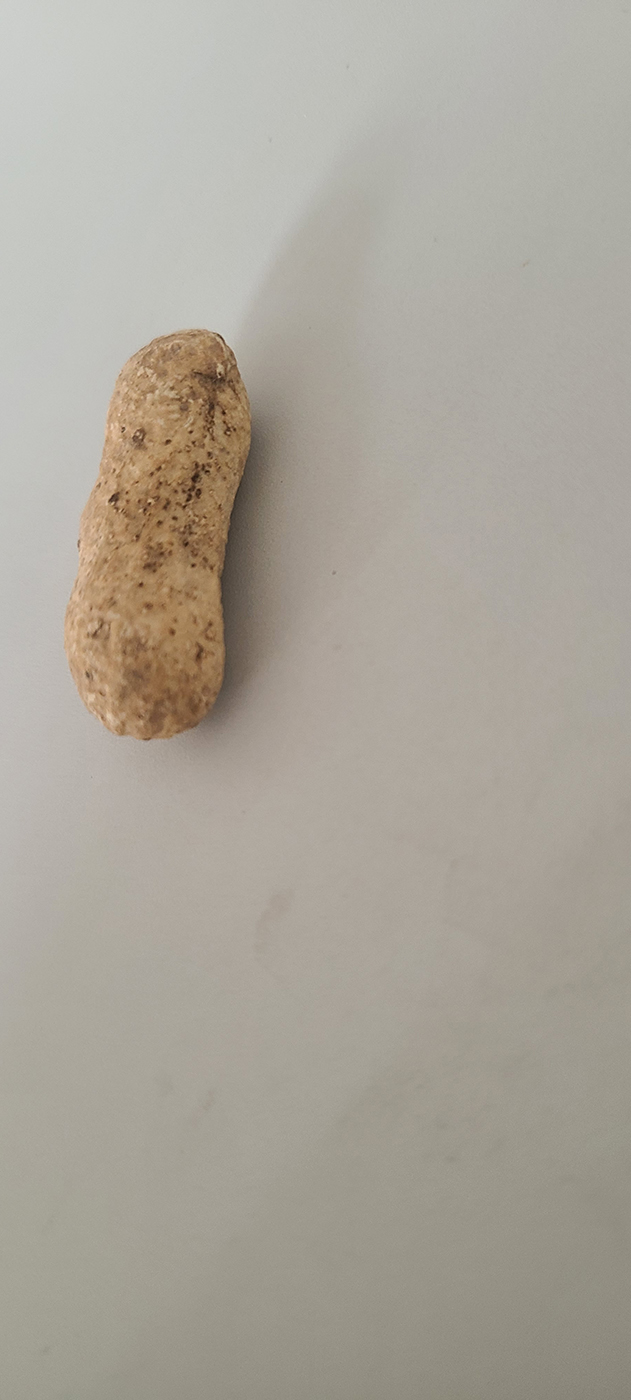h: (66, 321, 258, 735)
